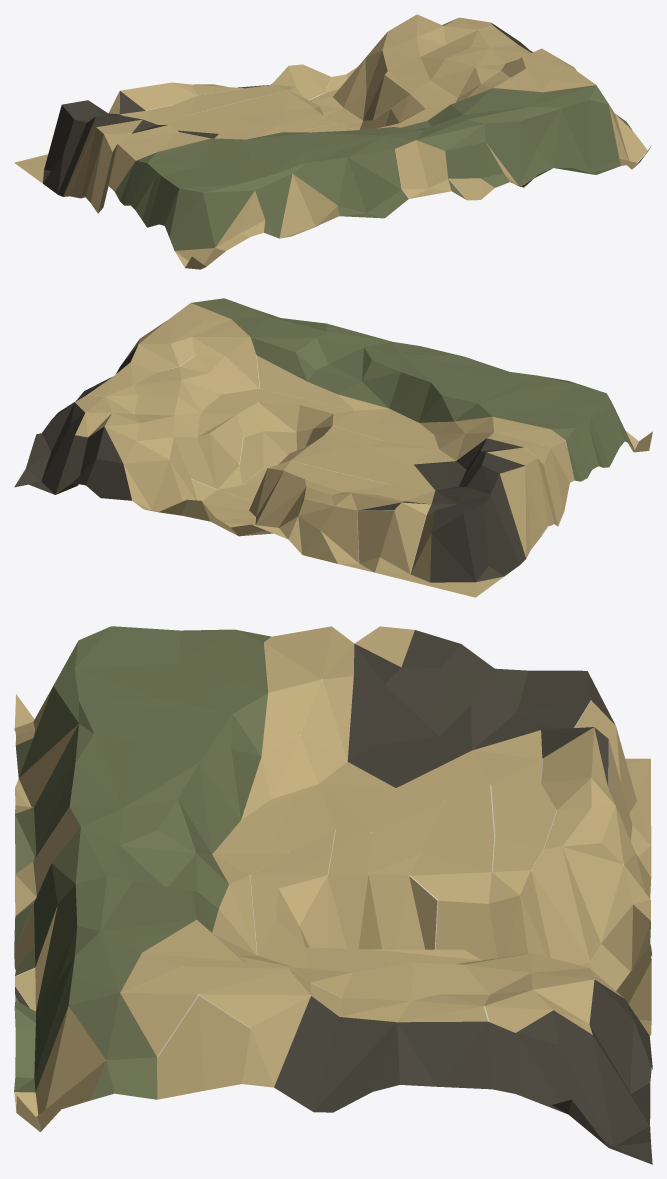
Rendered from Bech_3.fbx.
3 views of the same model, one above another, from view 1: azimuth 30°, elevation 25°; view 2: azimuth 150°, elevation 25°; view 3: azimuth 270°, elevation 25° (orthographic). The views are drawn at different scales.
Visible parts, largest first — view 1: Beach_BeforeLow.001; view 2: Beach_BeforeLow.001; view 3: Beach_BeforeLow.001.
Part boxes in pixels (box(x1,y1,x2,y2)): Beach_BeforeLow.001: box(14, 14, 651, 269); Beach_BeforeLow.001: box(14, 298, 652, 597); Beach_BeforeLow.001: box(14, 626, 652, 1164).
Bounding box in the file's own units: 15062 × 2599 × 10052.
